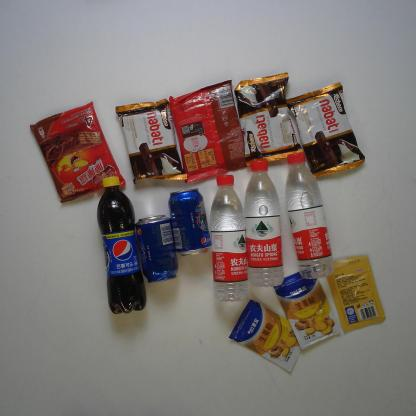Dessert: (29, 100, 126, 204), (169, 80, 247, 184), (285, 82, 366, 178), (234, 72, 306, 167), (115, 99, 188, 184)
Drink: (96, 176, 147, 315), (285, 152, 335, 280), (243, 158, 285, 288), (209, 174, 249, 302), (135, 214, 179, 284), (167, 188, 212, 256)
Seasoner: (272, 271, 343, 351), (228, 299, 302, 373), (326, 254, 386, 333)
